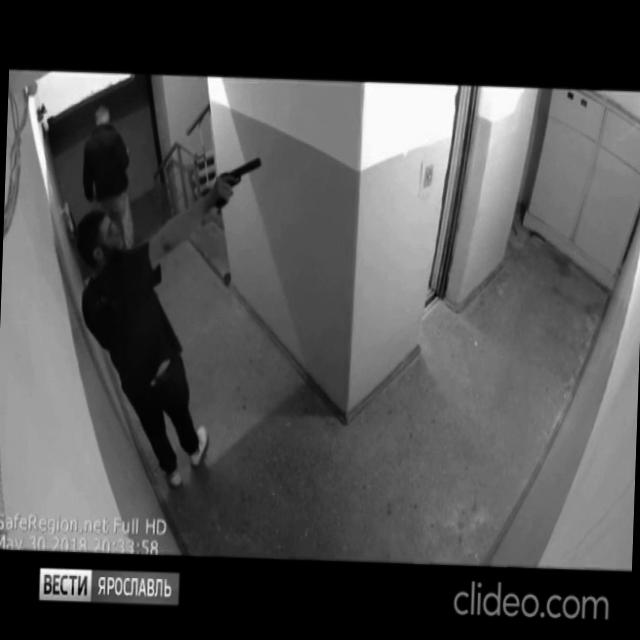gun: (213, 152, 264, 212)
person: (76, 100, 142, 273)
person with a gun: (64, 146, 266, 490)
